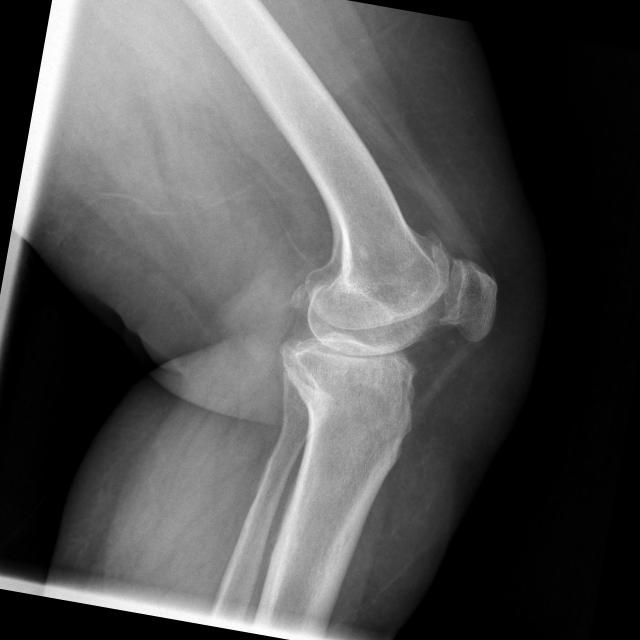Knee: (270, 212, 510, 452)
